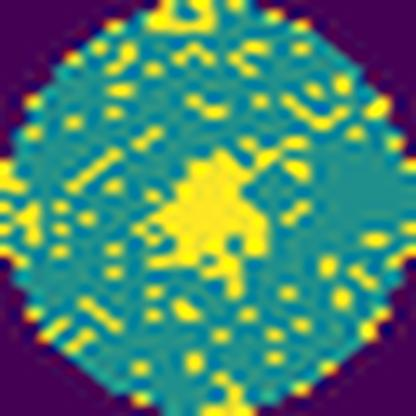Center: (138, 148, 270, 271)
